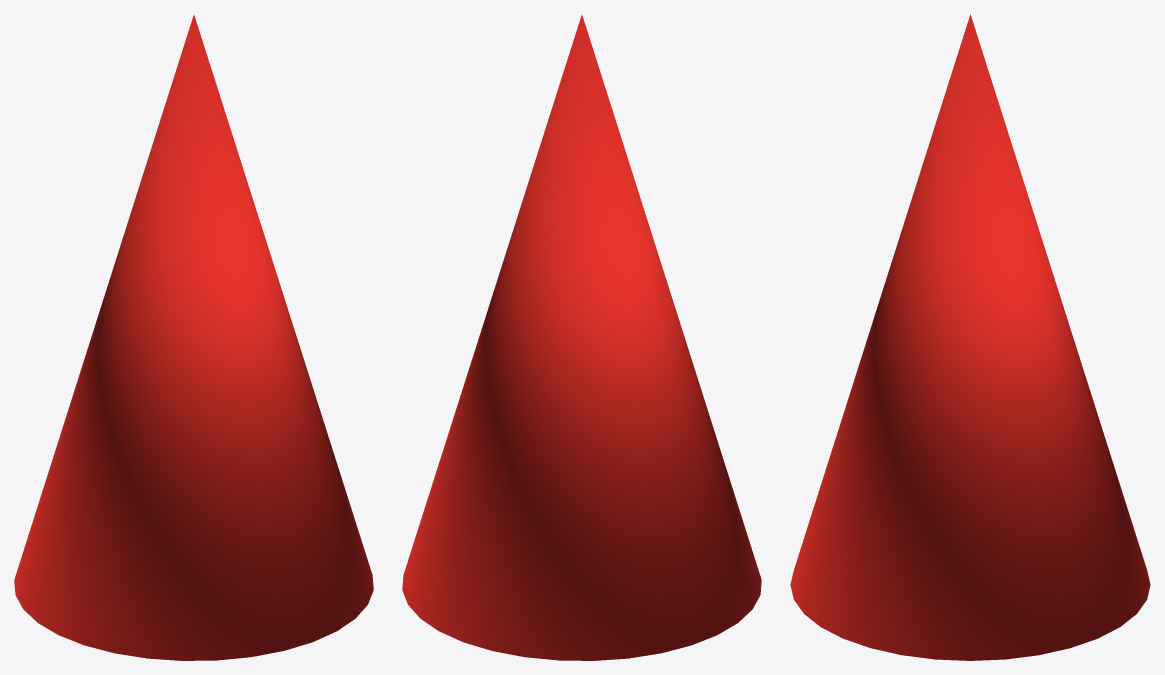
3 renders of one model, left to right at view 1: azimuth 30°, elevation 25°; view 2: azimuth 150°, elevation 25°; view 3: azimuth 270°, elevation 25°, orthographic.
Parts seen in each view (by area): view 1: Cone; view 2: Cone; view 3: Cone.
Part boxes in pixels (x1=…): Cone: x1=14, y1=15, x2=373, y2=660; Cone: x1=402, y1=15, x2=761, y2=660; Cone: x1=790, y1=14, x2=1150, y2=660.
Size of the model in its own units: 34.31 by 60 by 34.31.
